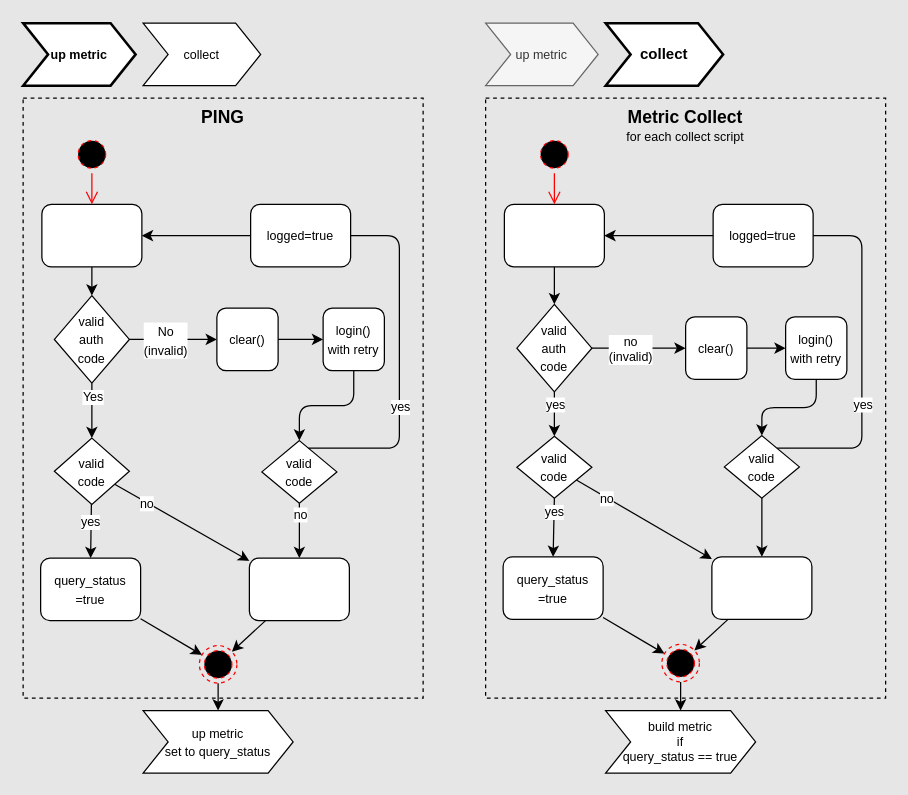
The diagram is 908 pixels wide and 795 high, and some of its shapes have lost their labels. The centre of each missing label's shape, as x and y in pixels:
"logged=false query_status =false" belongs at point 298,589.
"ping query()" belongs at point 91,235.
"query()" belongs at point 553,235.
"query_status =false" belongs at point 761,587.
